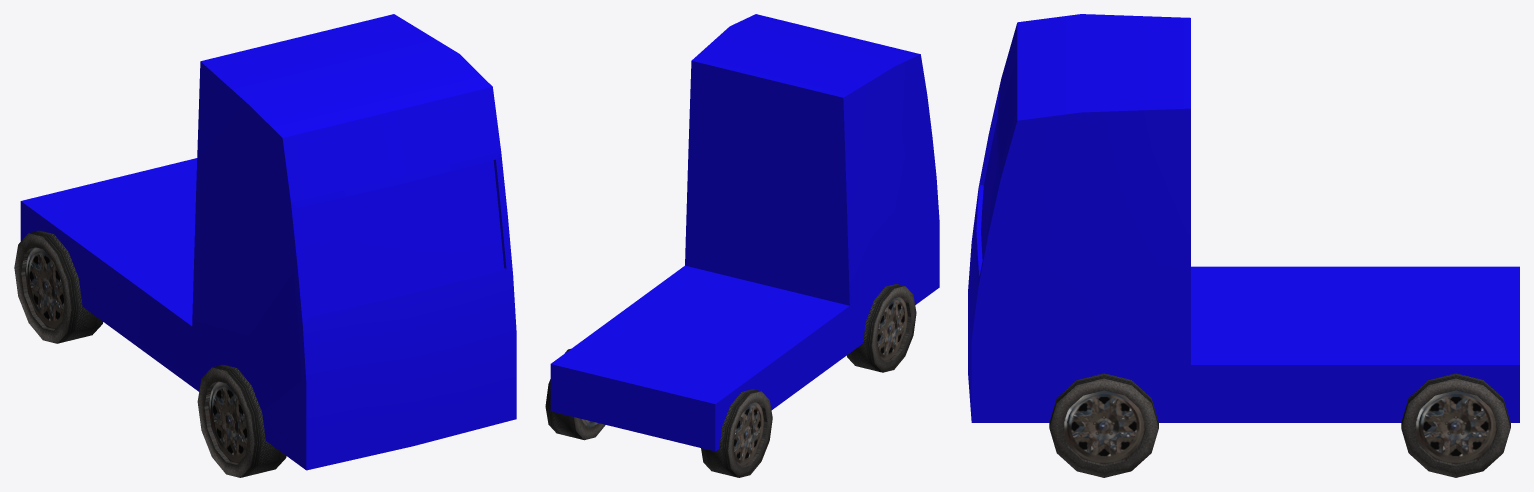
The model's file is Truck.FBX.
The picture shows the model from 3 angles, left to right: view 1: azimuth 30°, elevation 25°; view 2: azimuth 150°, elevation 25°; view 3: azimuth 270°, elevation 25°; orthographic projection. The views are drawn at different scales.
Visible parts, largest first — view 1: Truck, Tire_Trailer06, Tire_Trailer07; view 2: Truck, Tire_Trailer07, Tire_Trailer06, Tire_Trailer09; view 3: Truck, Tire_Trailer09, Tire_Trailer08.
Boxes of the visible parts, x1,y1,x2,y2 form: Truck: (20,14,516,470); Tire_Trailer06: (197,364,286,477); Tire_Trailer07: (14,230,102,343); Truck: (550,14,939,451); Tire_Trailer07: (701,389,772,477); Tire_Trailer06: (847,284,916,372); Tire_Trailer09: (545,349,605,440); Truck: (968,14,1519,422); Tire_Trailer09: (1401,373,1510,477); Tire_Trailer08: (1049,373,1158,477).
Bounding box in the file's own units: 2.82 × 6.04 × 4.35.
